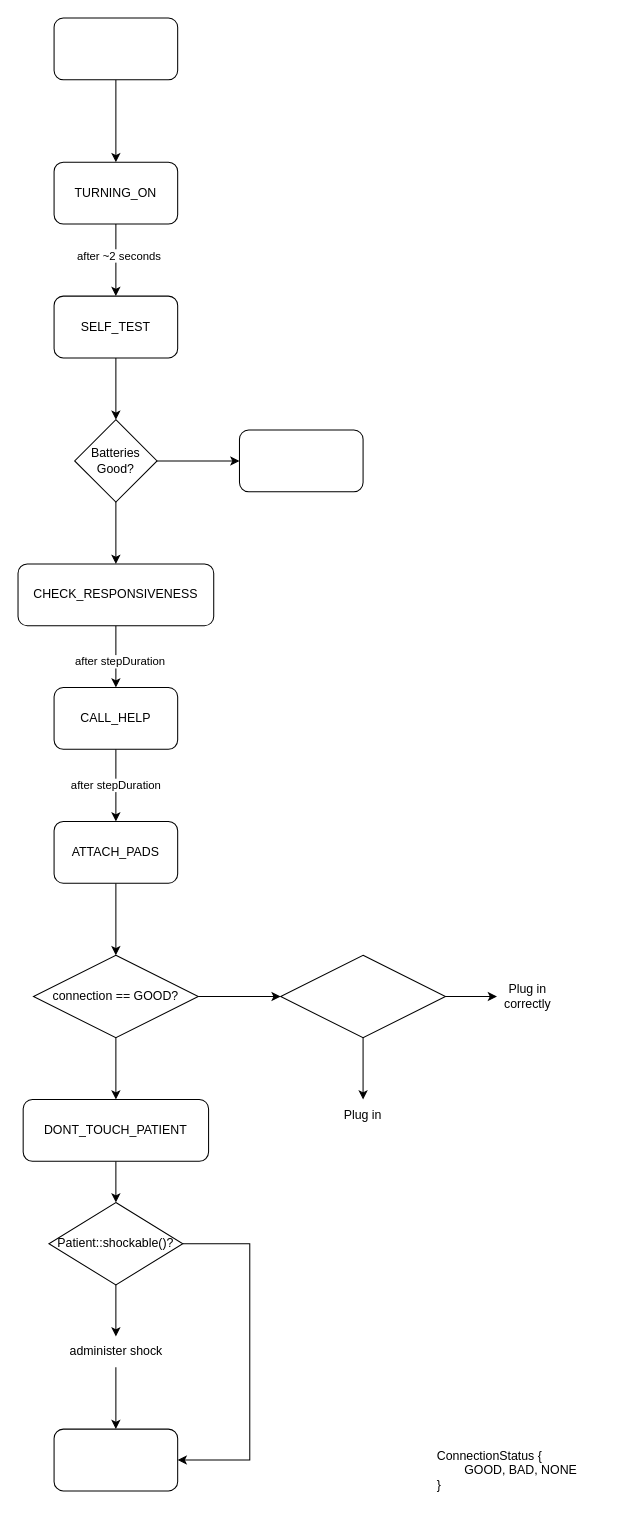
Some shapes in this 618 by 1519 pixel diagram are drawn without their labels. Here are the shapes that lost their labels. From the top down, the centre of each, then its label:
At point (115, 48): "OFF".
At point (300, 460): "BATTERIES_BAD".
At point (362, 996): "connection == NONE?".
At point (115, 1459): "START_CPR".
